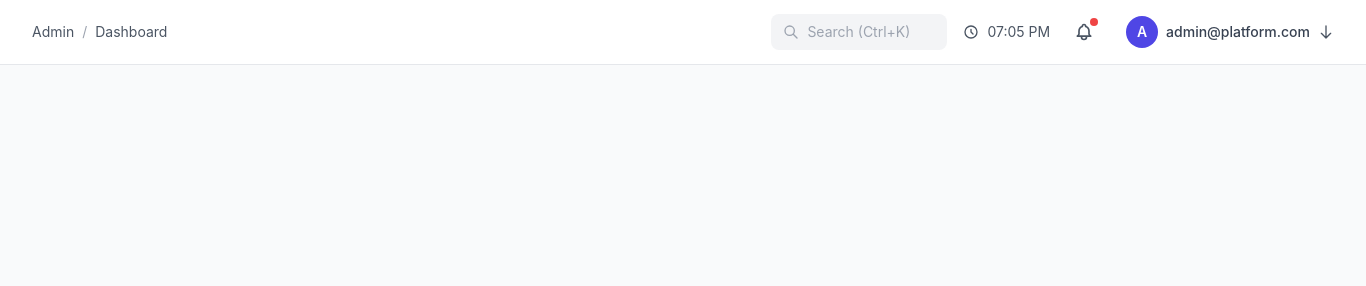
TopBar › should display Super Admin role
The image size is (1366, 286).
Click the button "A admin@platform.com" at point(1230, 32), box [1118,8,1342,56]
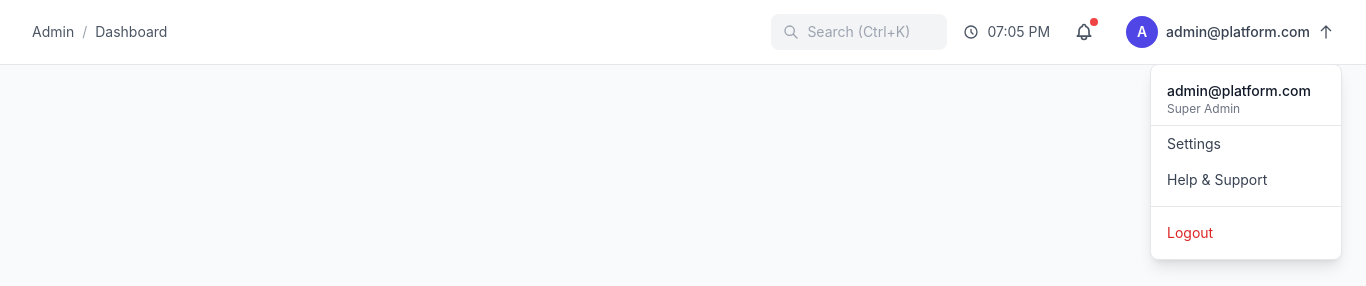
Result: the text "Super Admin" is shown at [1167,101,1240,116]
